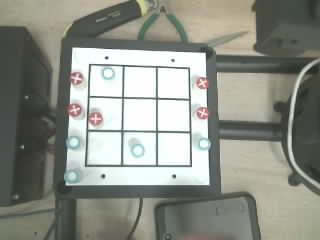blue circle: (64, 169, 80, 183), (131, 144, 145, 158), (66, 136, 80, 149), (198, 138, 211, 151), (101, 67, 114, 79)
board: (64, 48, 210, 185)
cells: (87, 132, 120, 164), (158, 133, 190, 165), (123, 133, 155, 165), (89, 98, 122, 129), (123, 99, 155, 130), (90, 66, 122, 96), (158, 68, 189, 98), (158, 100, 189, 130), (124, 67, 155, 97)
grid: (85, 64, 191, 166)
red cross: (67, 104, 82, 117), (88, 112, 102, 125), (70, 72, 83, 85), (196, 107, 209, 120), (196, 77, 208, 88)
